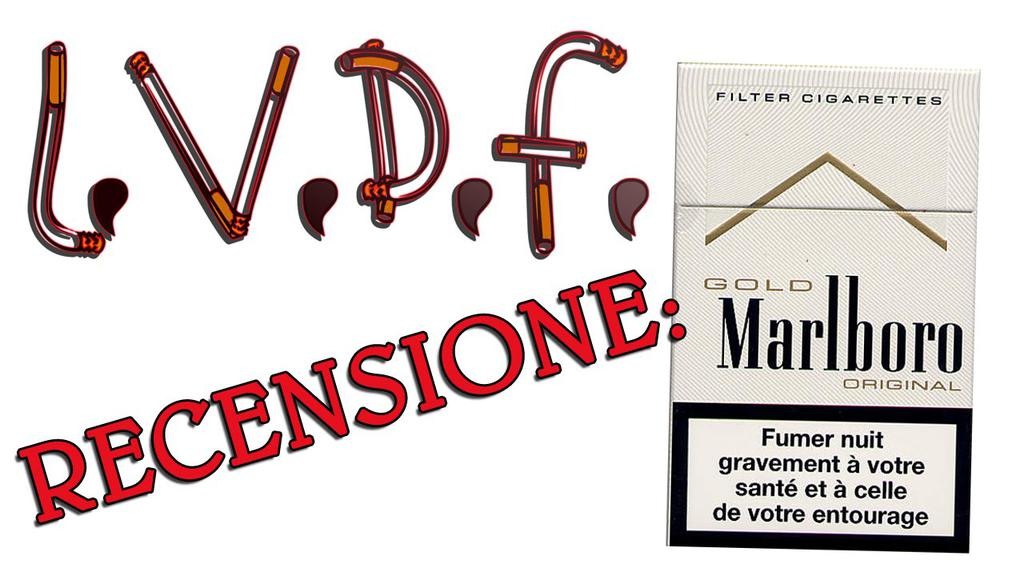marlboro_gold: (667, 68, 974, 553)
